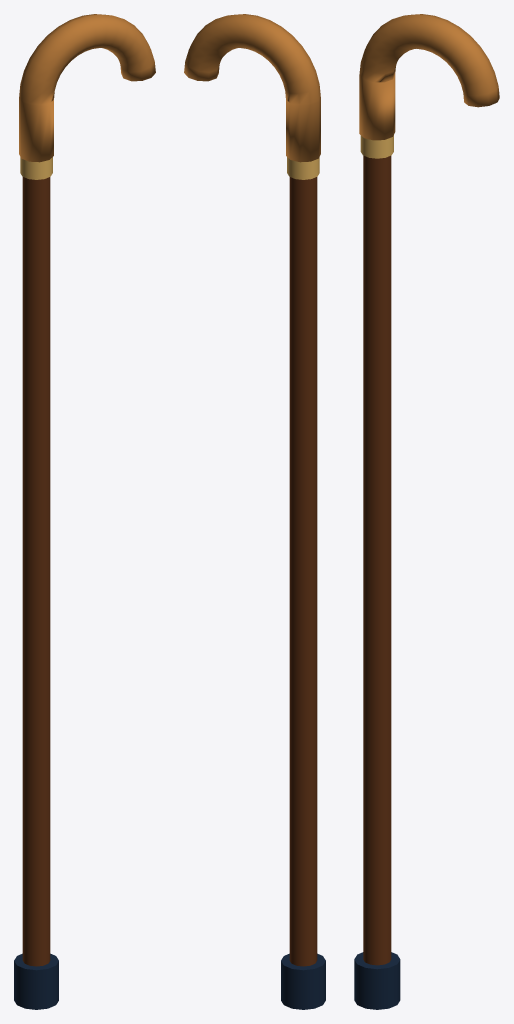
File: 26_Walking_Cane.glb
3 renders of one model, left to right at view 1: azimuth 30°, elevation 25°; view 2: azimuth 150°, elevation 25°; view 3: azimuth 330°, elevation 25°, orthographic. The views are drawn at different scales.
Parts seen in each view (by area): view 1: 26_Walking_Cane_EXPORT; view 2: 26_Walking_Cane_EXPORT; view 3: 26_Walking_Cane_EXPORT.
Part boxes in pixels (<box>): 26_Walking_Cane_EXPORT: <box>14,14,155,1009</box>; 26_Walking_Cane_EXPORT: <box>184,14,325,1009</box>; 26_Walking_Cane_EXPORT: <box>354,14,499,1009</box>.
Bounding box in the file's own units: 0.2519 × 1.71 × 0.072.
